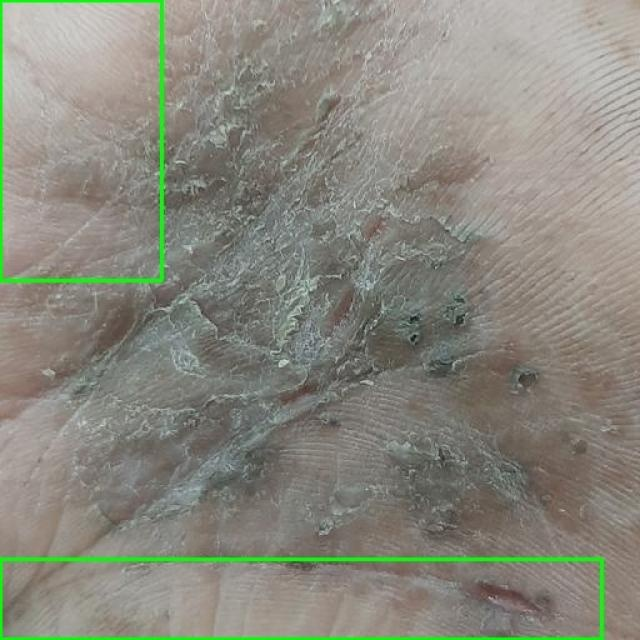Eczema: (0, 559, 601, 639), (0, 0, 161, 280)
